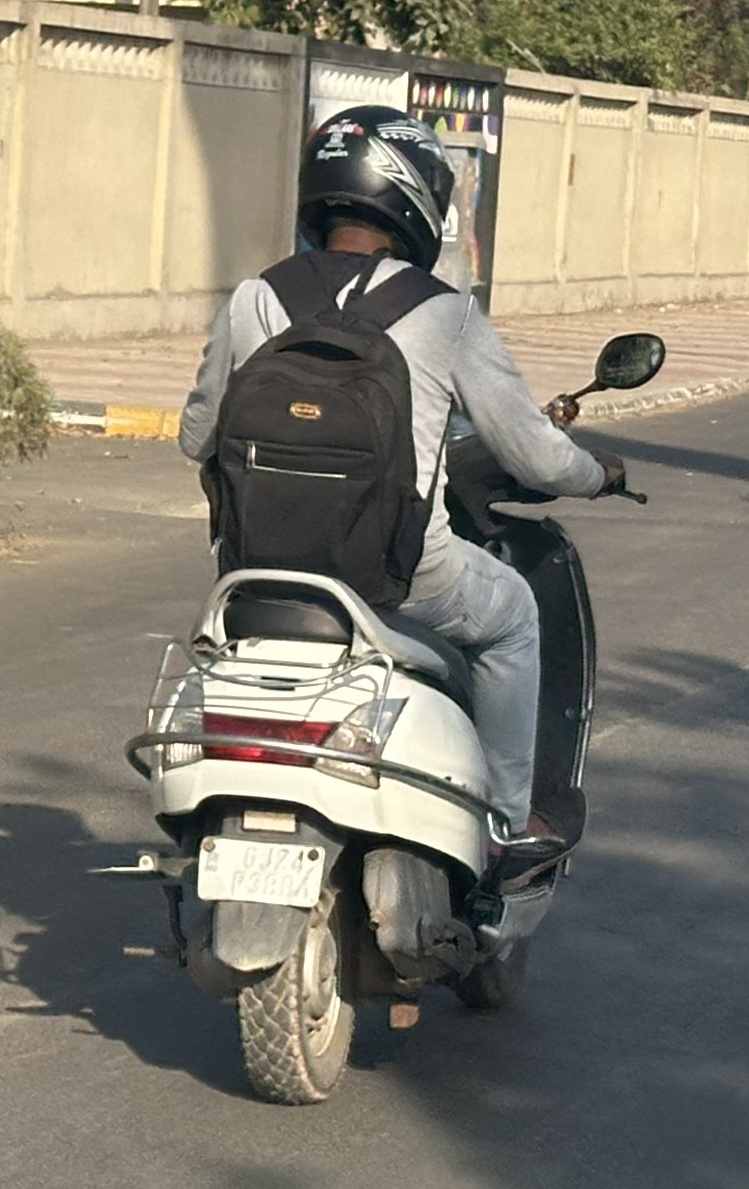BikeWithRider: (105, 92, 677, 1118)
Helmet: (275, 95, 468, 282)
